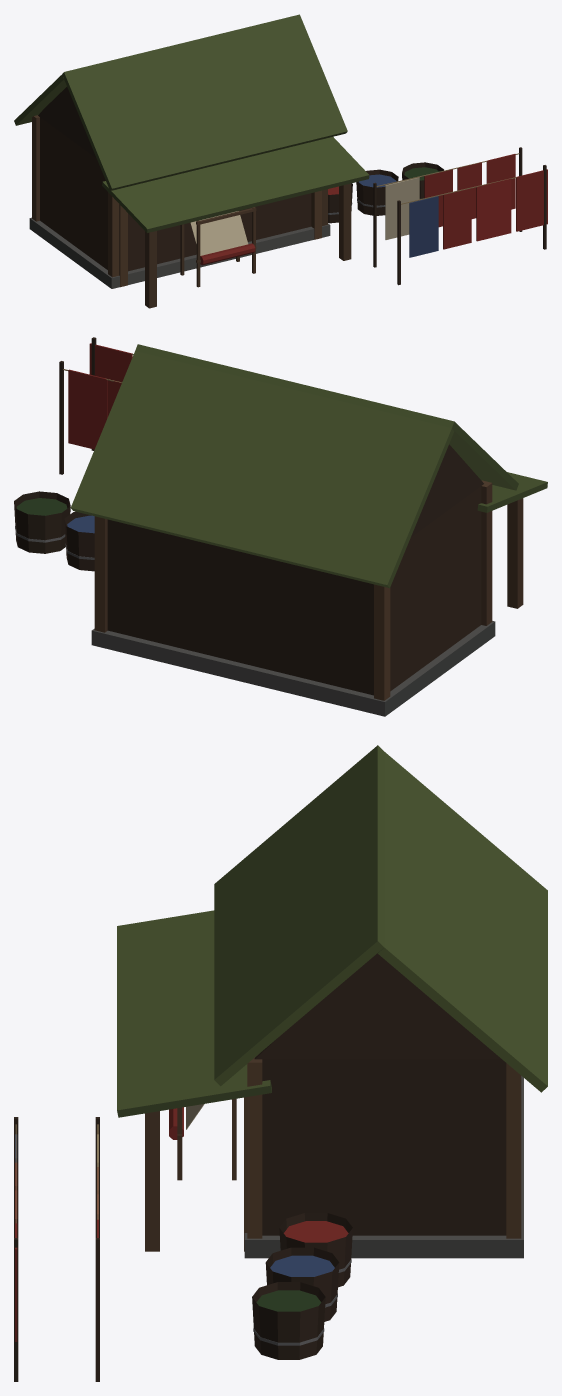
The model's file is walk_rime_weaver.glb.
The picture shows the model from 3 angles, top to bottom: view 1: azimuth 30°, elevation 25°; view 2: azimuth 150°, elevation 25°; view 3: azimuth 270°, elevation 25°; orthographic projection. The views are drawn at different scales.
Visible parts, largest first — view 1: walk_rime_weaver_roof, walk_rime_weaver; view 2: walk_rime_weaver, walk_rime_weaver_roof; view 3: walk_rime_weaver_roof, walk_rime_weaver.
Part boxes in pixels (x1,y1,x2,y2): walk_rime_weaver_roof: (14, 14, 369, 232); walk_rime_weaver: (29, 87, 547, 308); walk_rime_weaver: (14, 337, 523, 716); walk_rime_weaver_roof: (70, 344, 547, 588); walk_rime_weaver_roof: (117, 745, 547, 1117); walk_rime_weaver: (14, 953, 523, 1381).
Size of what is drawn, in the model's own units: 10.88 by 5.25 by 7.83.
2 materials, 2 textured.
